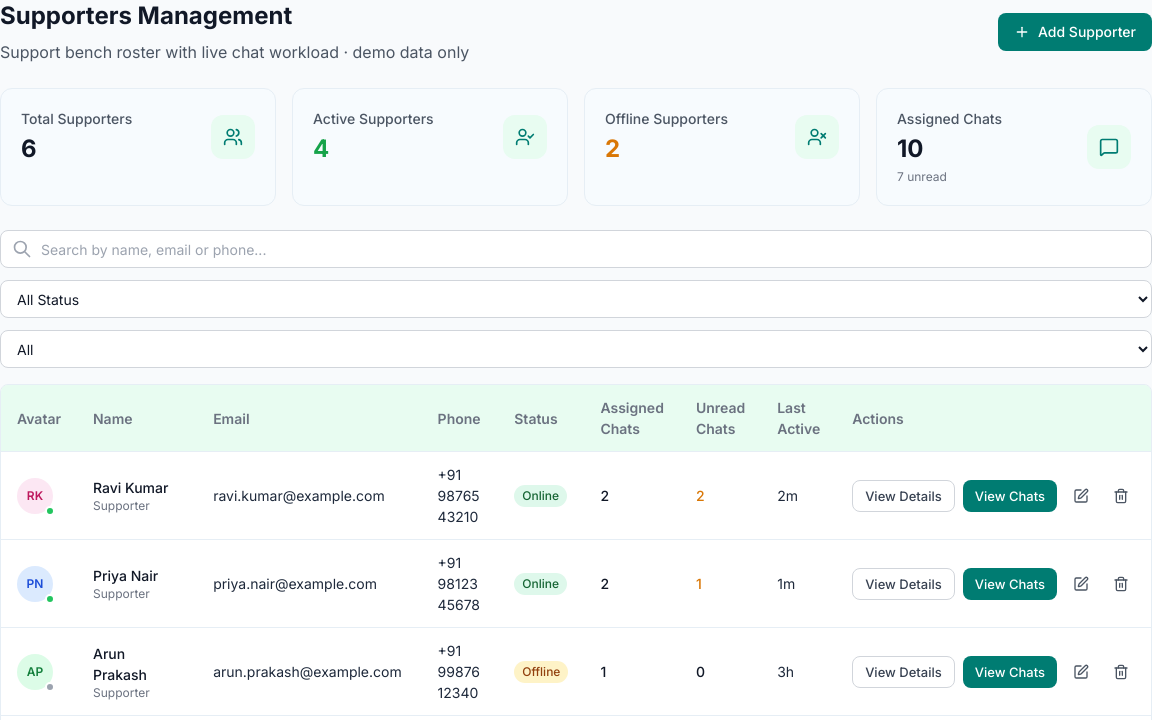
Scenario: SupportersPage › rejects a duplicate email address
This screenshot has width=1152, height=720.
Click the button "Add Supporter" at (1075, 32), box [998, 13, 1151, 51]
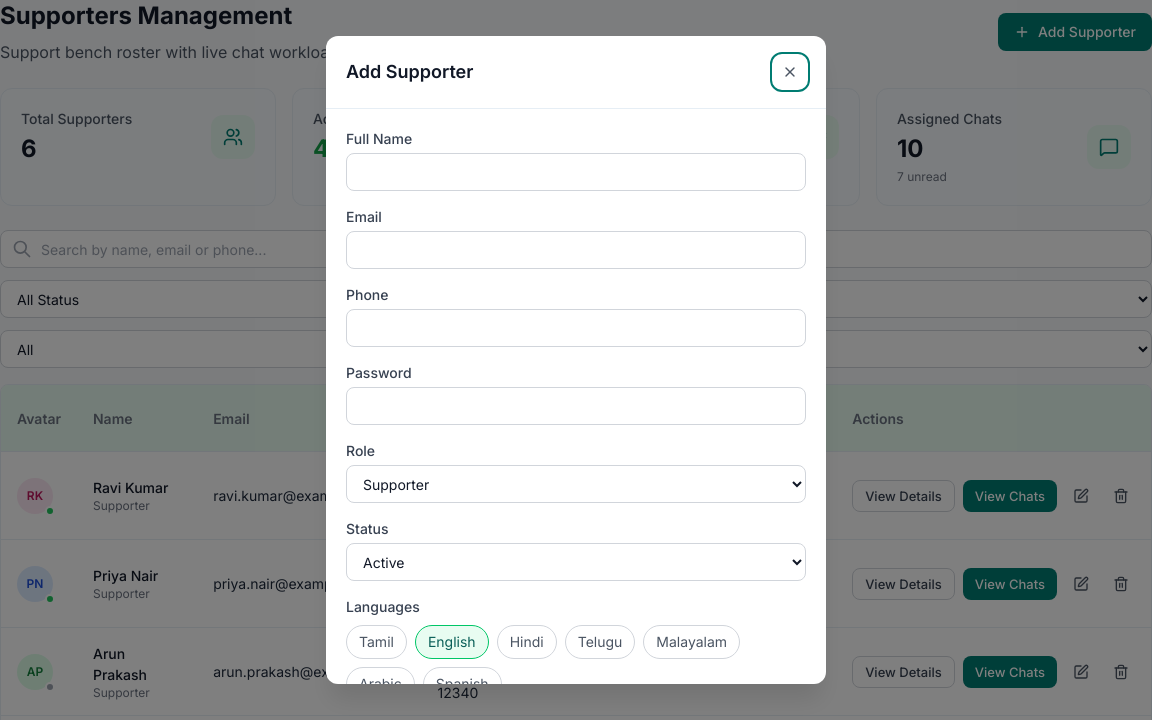
Type "Duplicate" into the field labelled "Full Name" at (576, 172), box [346, 153, 806, 191]
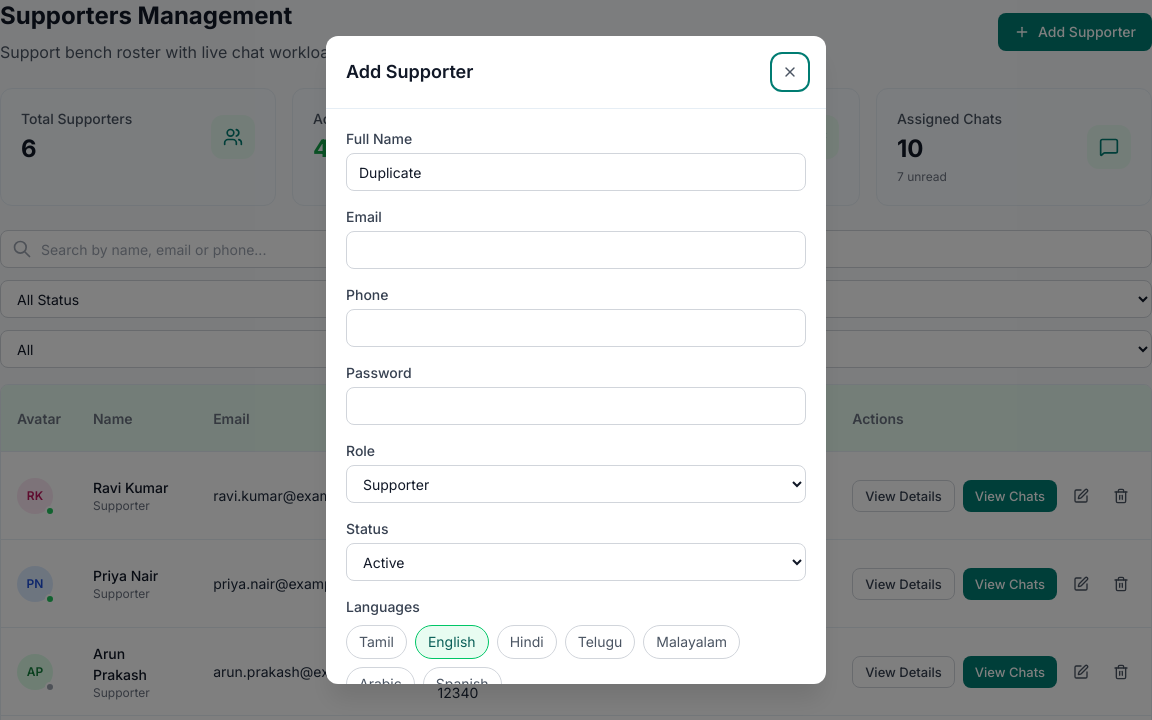
Type "ravi.kumar@example.com" into the field labelled "Email" at (576, 250), box [346, 231, 806, 269]
(page scrolled)
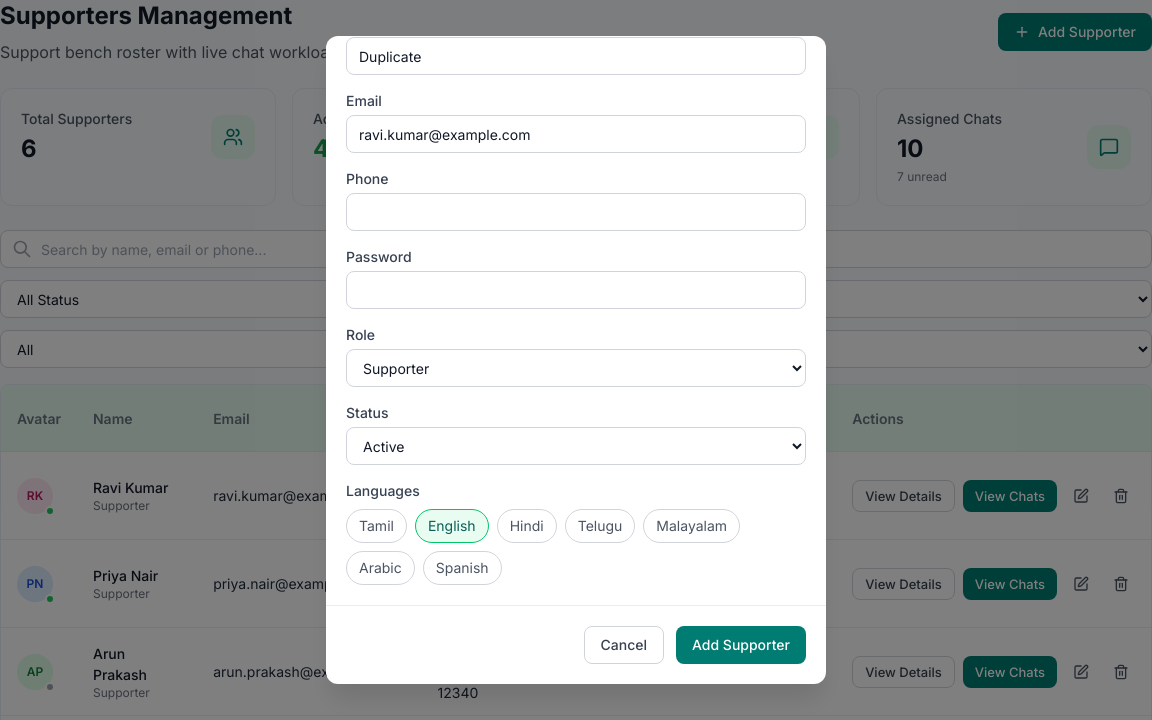
Click the button "Add Supporter" at (741, 645), box [676, 626, 806, 664]
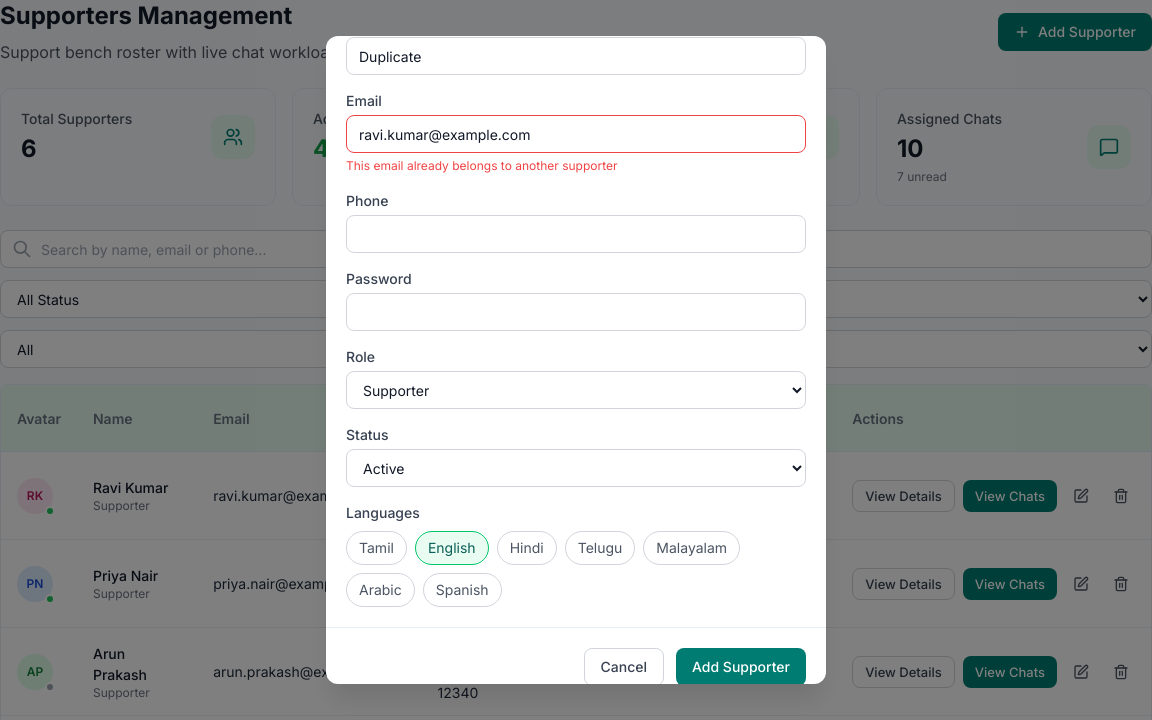
Expected: the text "This email already belongs to another supporter" is shown, [346, 158, 618, 173]
